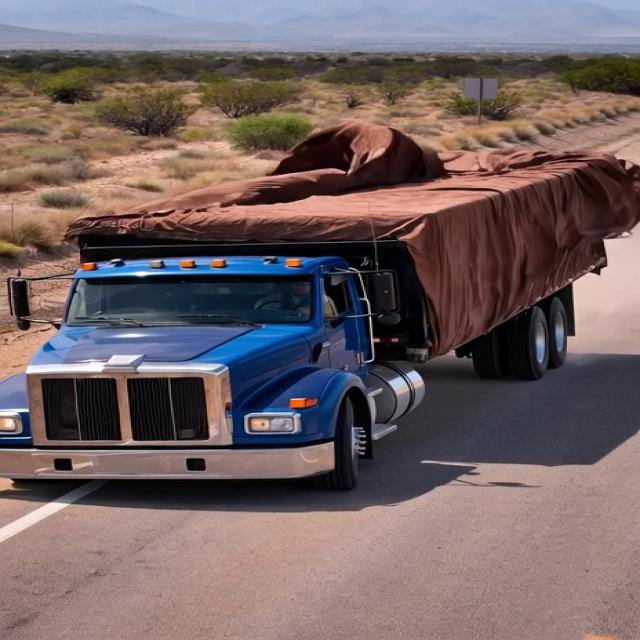trailer: (58, 144, 610, 252)
truck: (9, 107, 639, 484)
